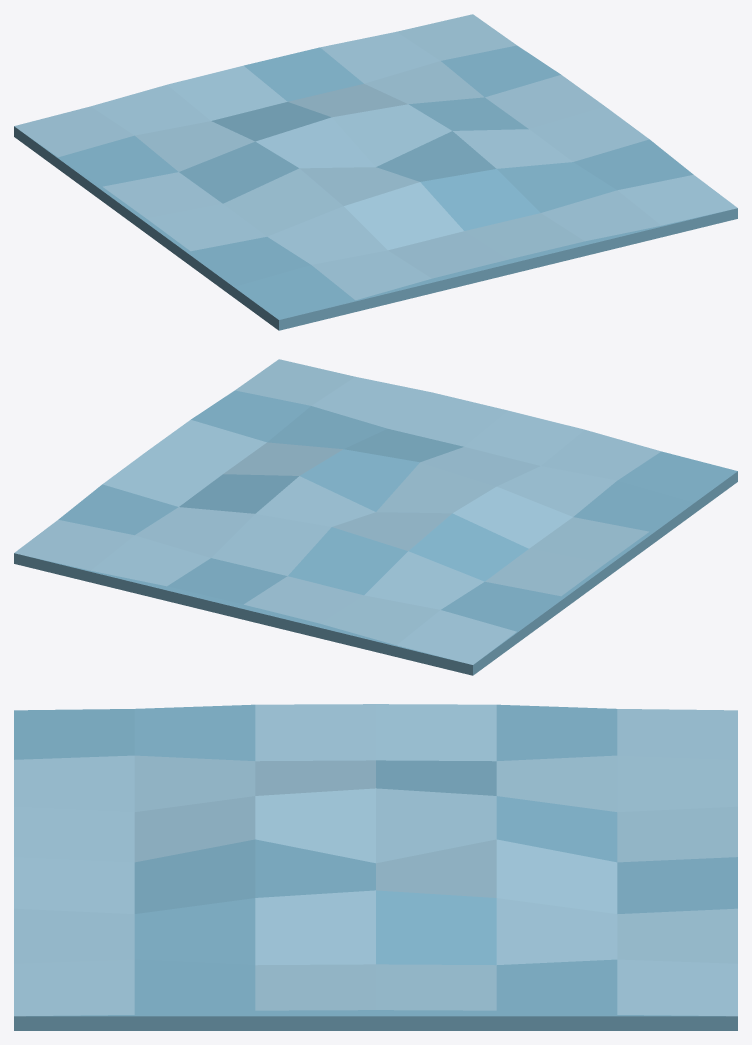
Rendered from animprop_water_02.glb.
3 views of the same model, one above another, from view 1: azimuth 30°, elevation 25°; view 2: azimuth 150°, elevation 25°; view 3: azimuth 270°, elevation 25° (orthographic). The views are drawn at different scales.
Visible parts, largest first — view 1: animprop; view 2: animprop; view 3: animprop.
Boxes of the visible parts, x1,y1,x2,y2 form: animprop: (14,14,737,330); animprop: (14,359,737,675); animprop: (14,704,737,1030).
Bounding box in the file's own units: 1.8 × 0.1056 × 1.8.
